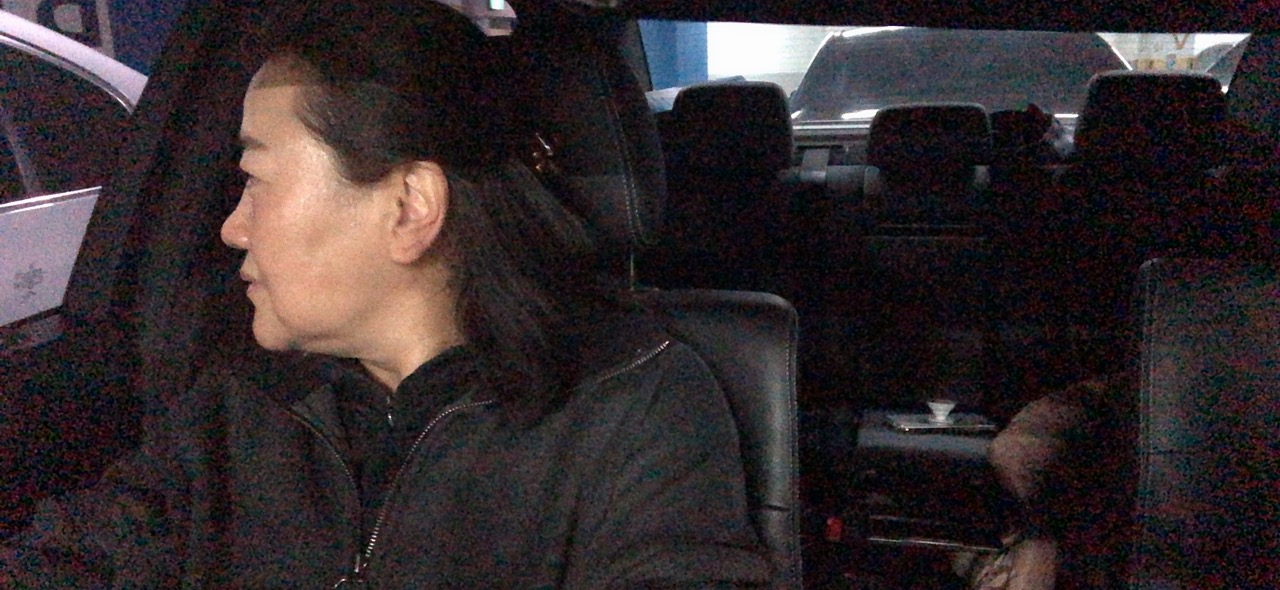left: (179, 67, 582, 446)
